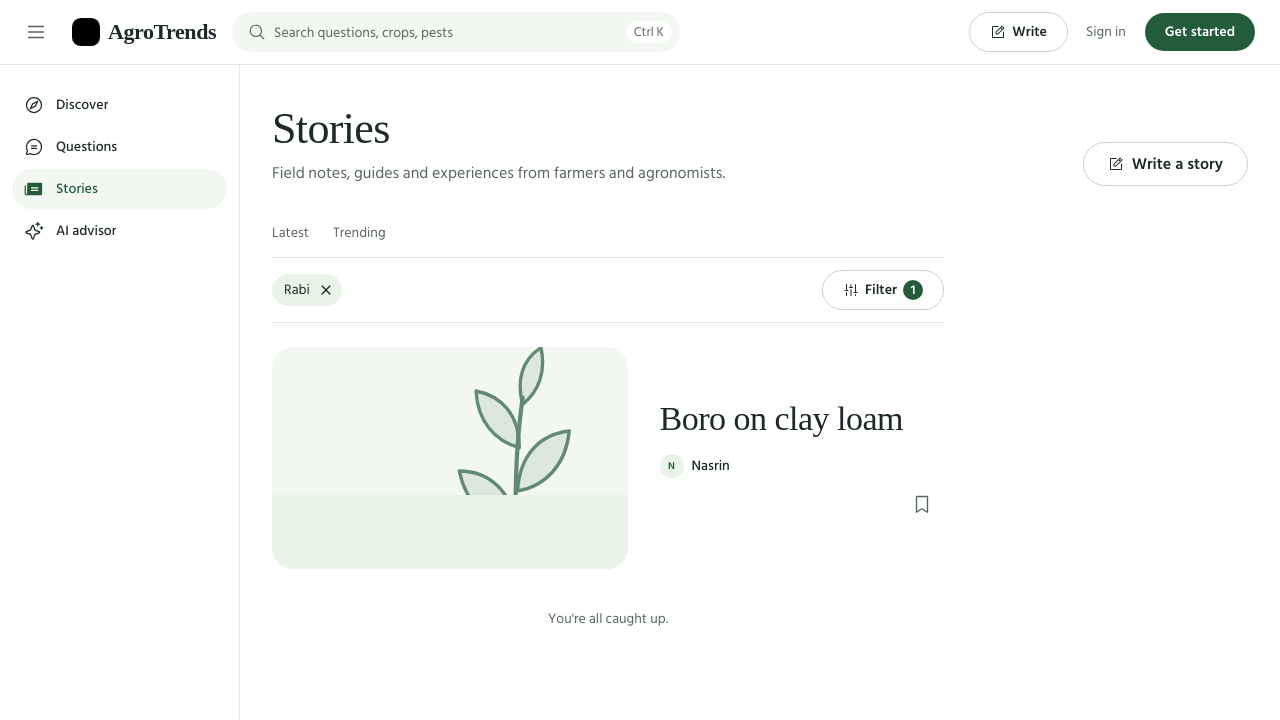
Test: crop, region and soil filters combine with the season
expect the link "Boro on clay loam" is shown: met, box [660,400,903,437]
Click the button with aria-label "Filter by crop, season, region or soil" at (883, 290), box [822,270,944,310]
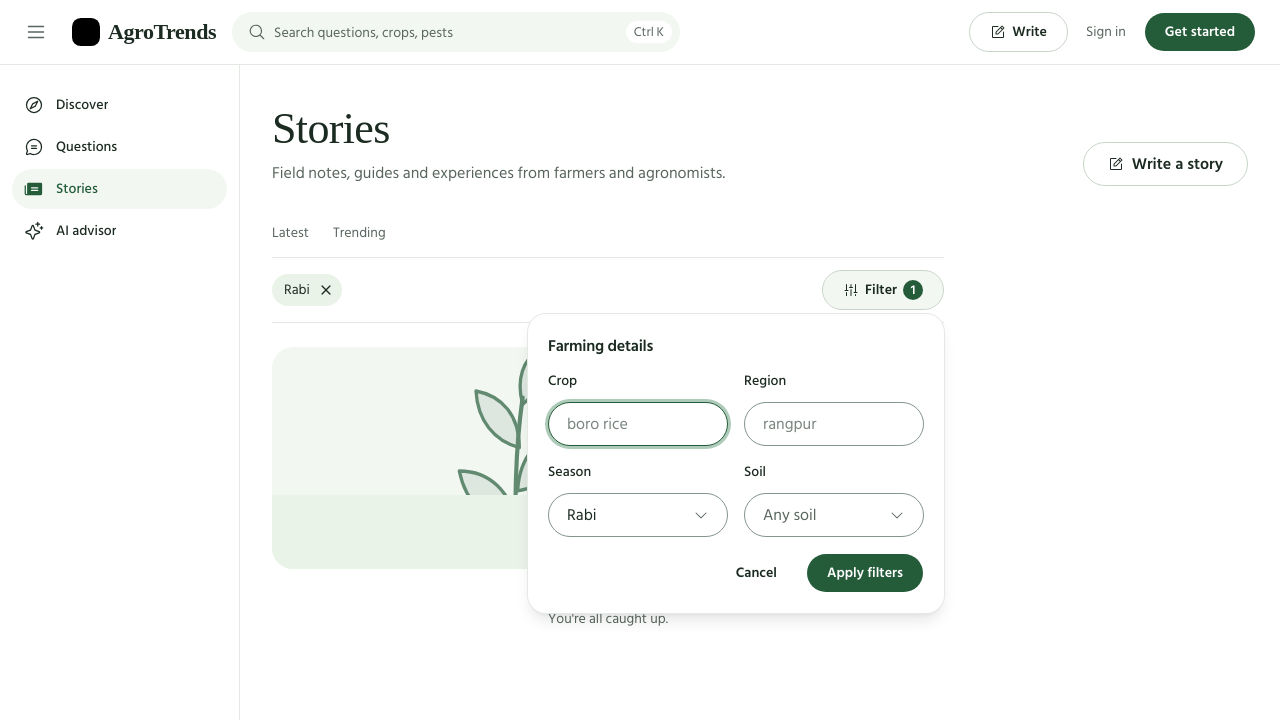
Type " boro rice " into the field labelled "Crop" at (638, 424), box [548,402,728,446]
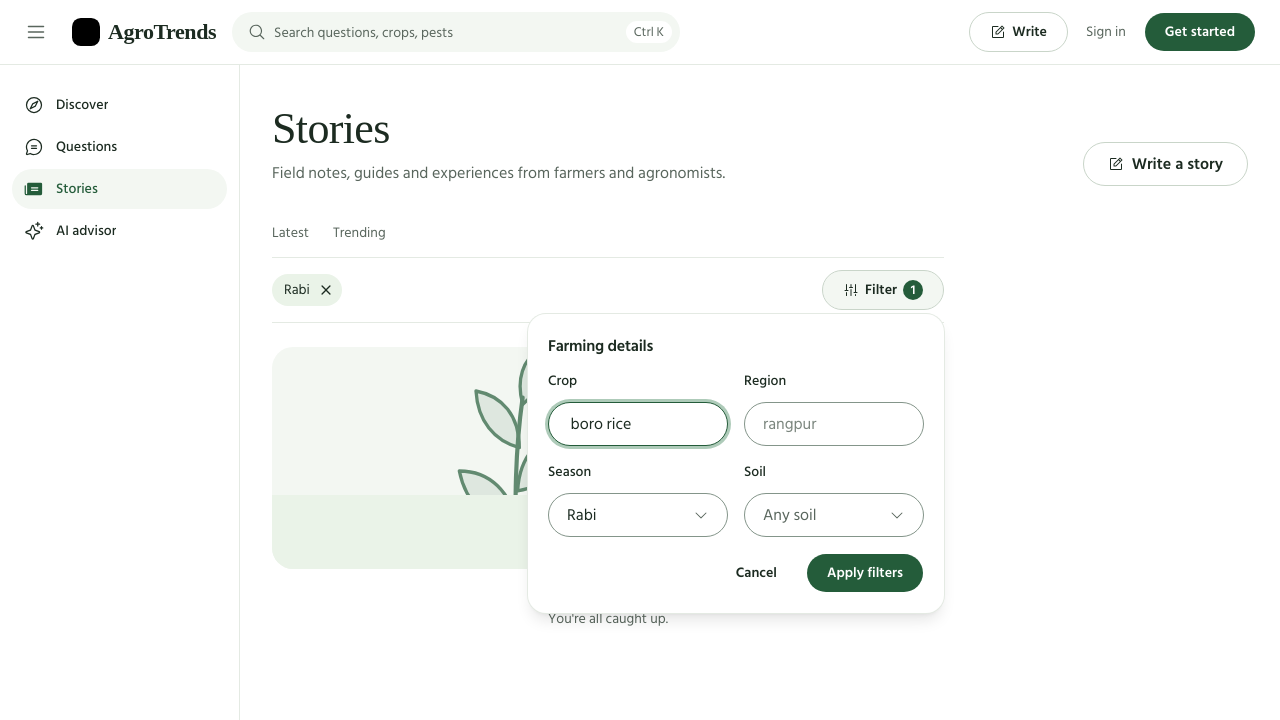
Type "Rangpur" into the field labelled "Region" at (834, 424), box [744,402,924,446]
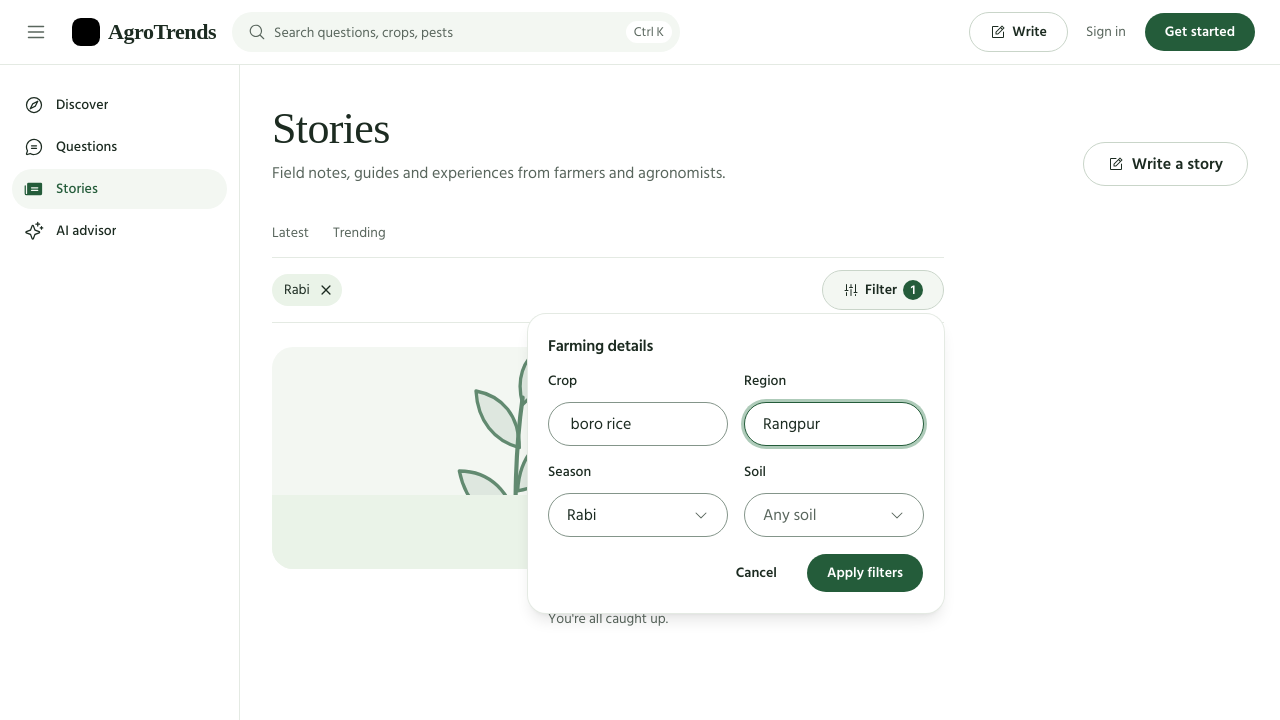
Click the dropdown labelled "soil" at (834, 515), box [744,493,924,537]
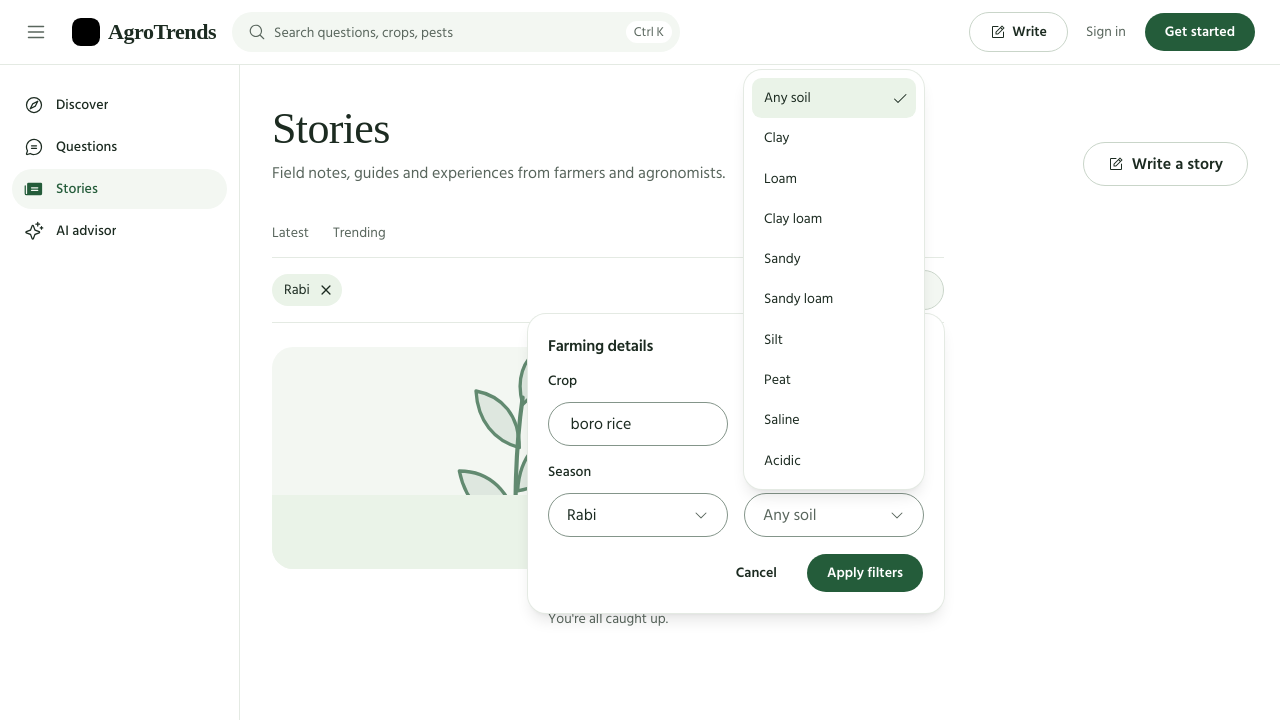
Click the option "Clay loam" at (793, 218), box [764,207,822,230]
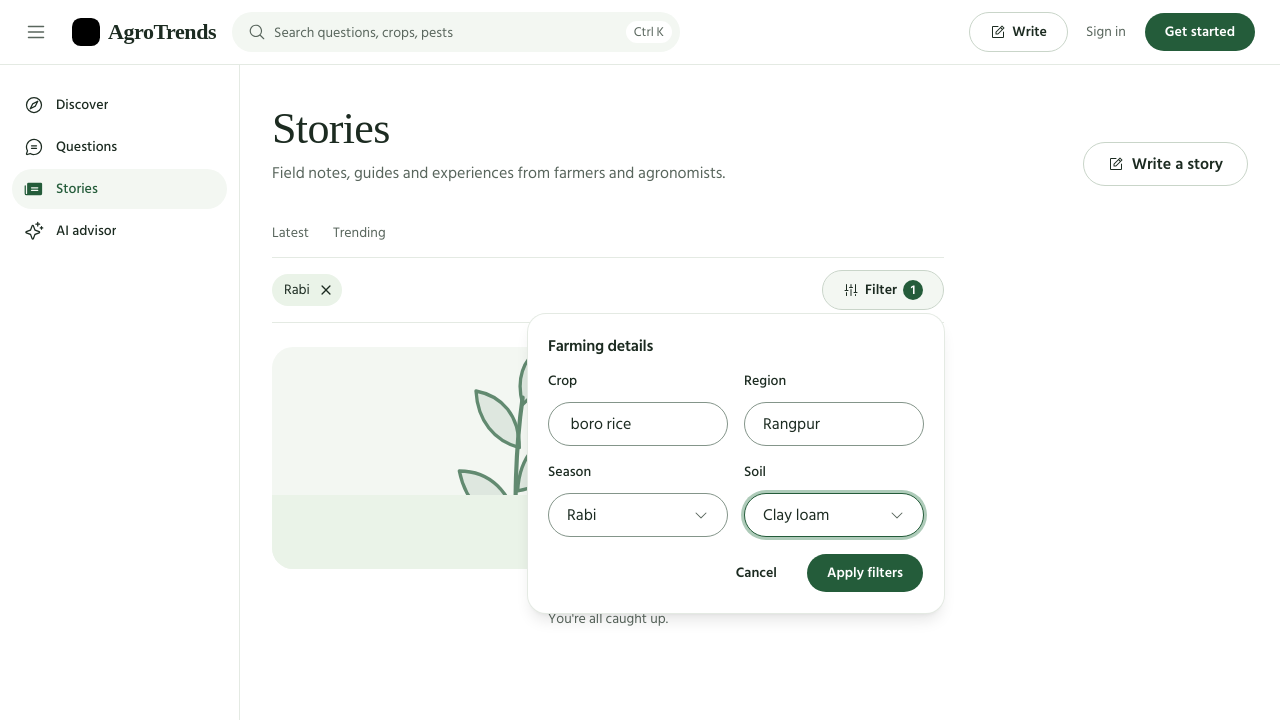
Click the button "Apply filters" at (865, 573), box [806,553,924,593]
(page scrolled)
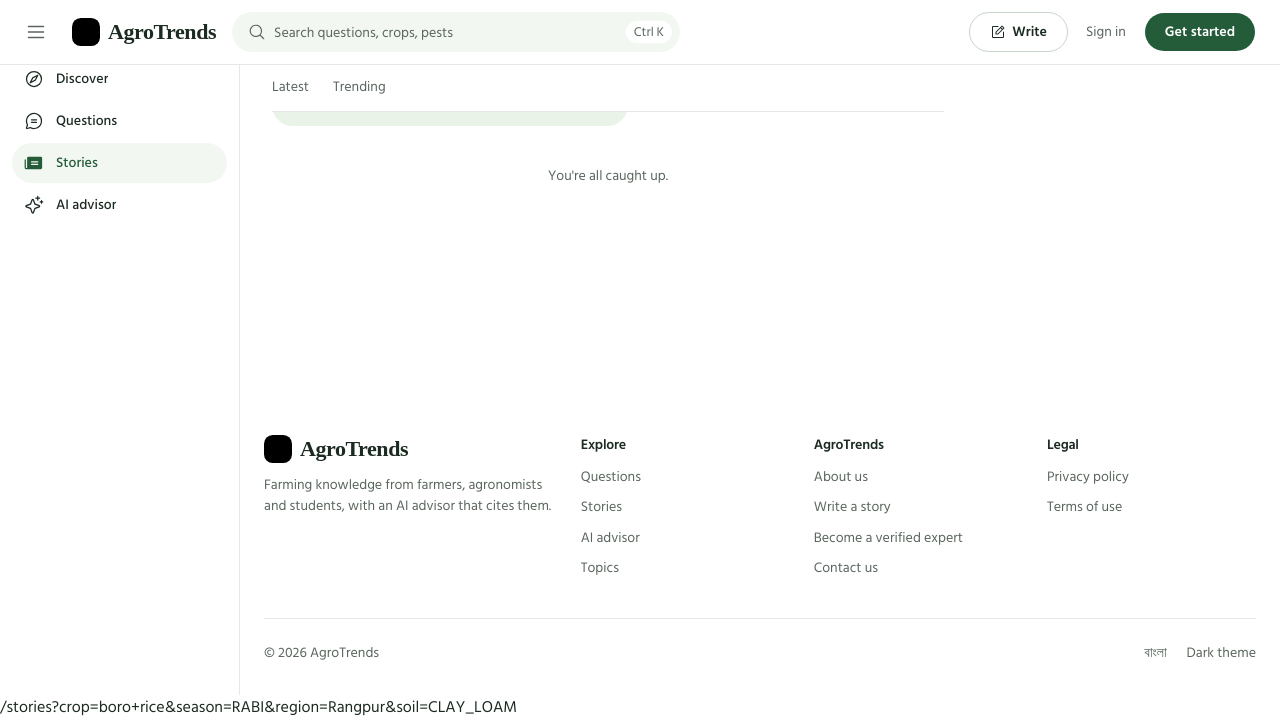
expect the text with test id "path" reads "/stories?crop=boro+rice&season=RABI&region=Rangpur&soil=CLAY_LOAM": met, box [0,694,517,719]
